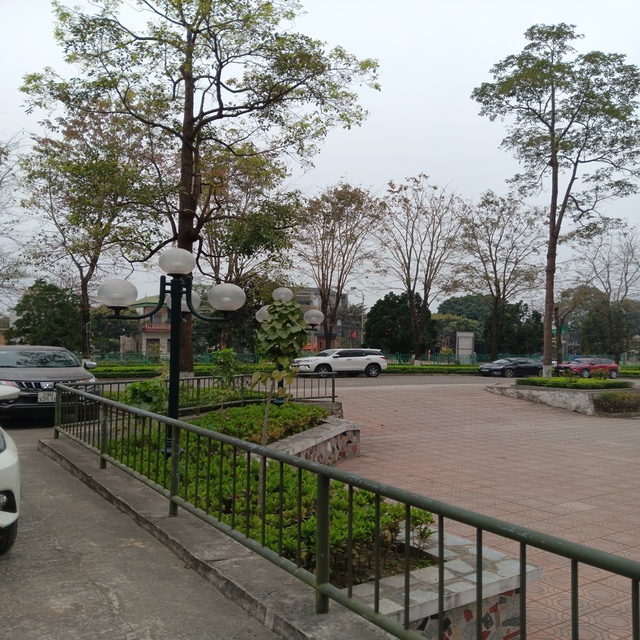cotden: (97, 248, 243, 480), (256, 286, 333, 428)
